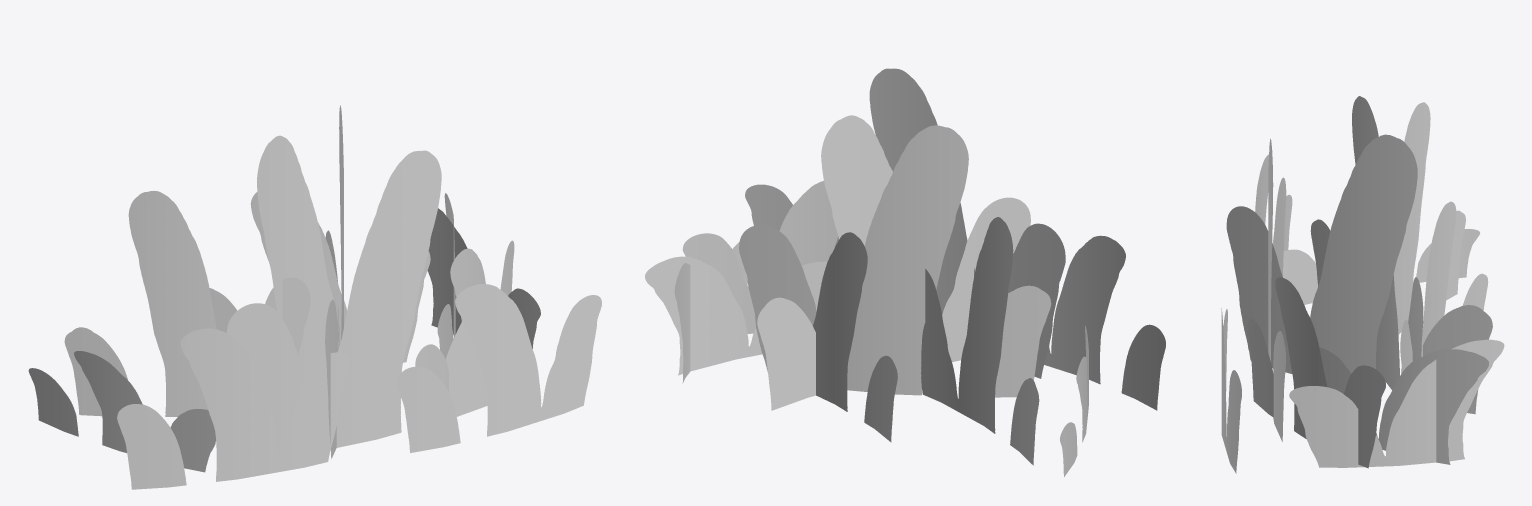
Rendered from GrassPickup.fbx.
3 views of the same model, side by side, from view 1: azimuth 30°, elevation 25°; view 2: azimuth 150°, elevation 25°; view 3: azimuth 270°, elevation 25° (orthographic). The views are drawn at different scales.
Parts seen in each view (by area): view 1: GrassPickup; view 2: GrassPickup; view 3: GrassPickup.
Boxes of the visible parts, x1=… form: GrassPickup: x1=28, y1=105, x2=601, y2=489; GrassPickup: x1=645, y1=68, x2=1165, y2=476; GrassPickup: x1=1221, y1=96, x2=1504, y2=473.
Bounding box in the file's own units: 1049 × 633 × 603.
